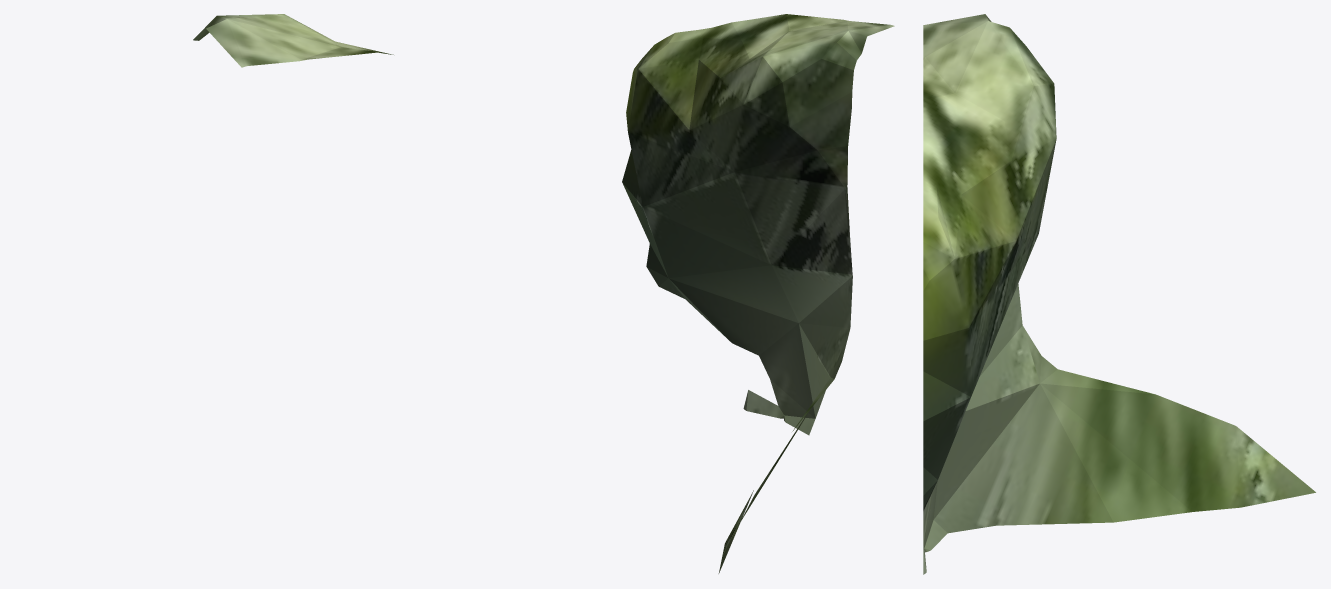
The picture shows the model from 3 angles, left to right: view 1: azimuth 30°, elevation 25°; view 2: azimuth 150°, elevation 25°; view 3: azimuth 270°, elevation 25°; orthographic projection. The views are drawn at different scales.
Bounding box in the file's own units: 1.16 × 1.75 × 1.29.
Materials: 1 (1 with a texture image).
